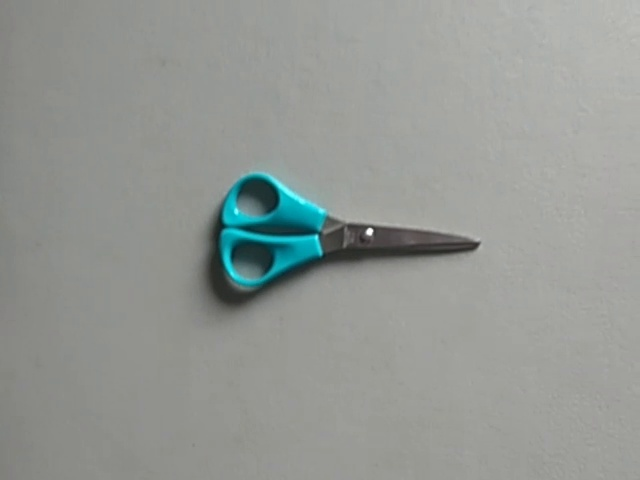Sizer: (211, 166, 490, 298)
